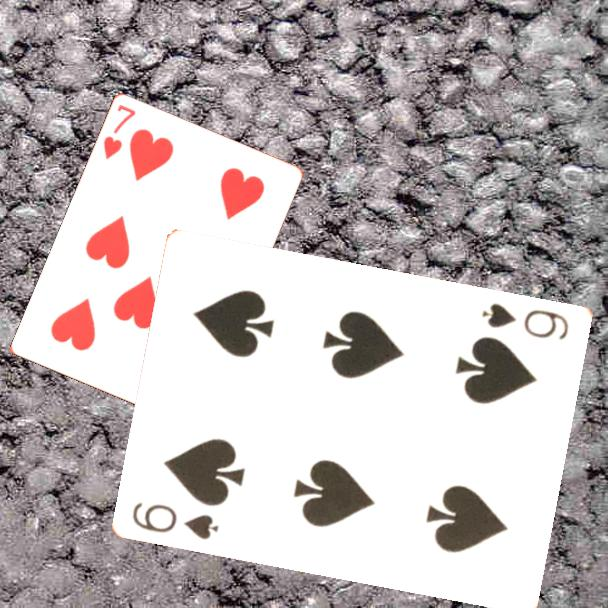h07: (100, 101, 139, 163)
s06: (129, 498, 223, 542), (479, 299, 572, 342)
